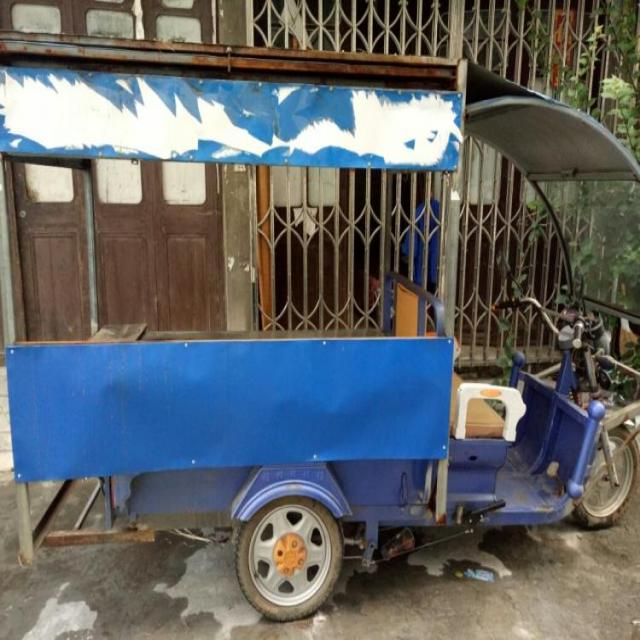tricycle: (0, 28, 639, 620)
